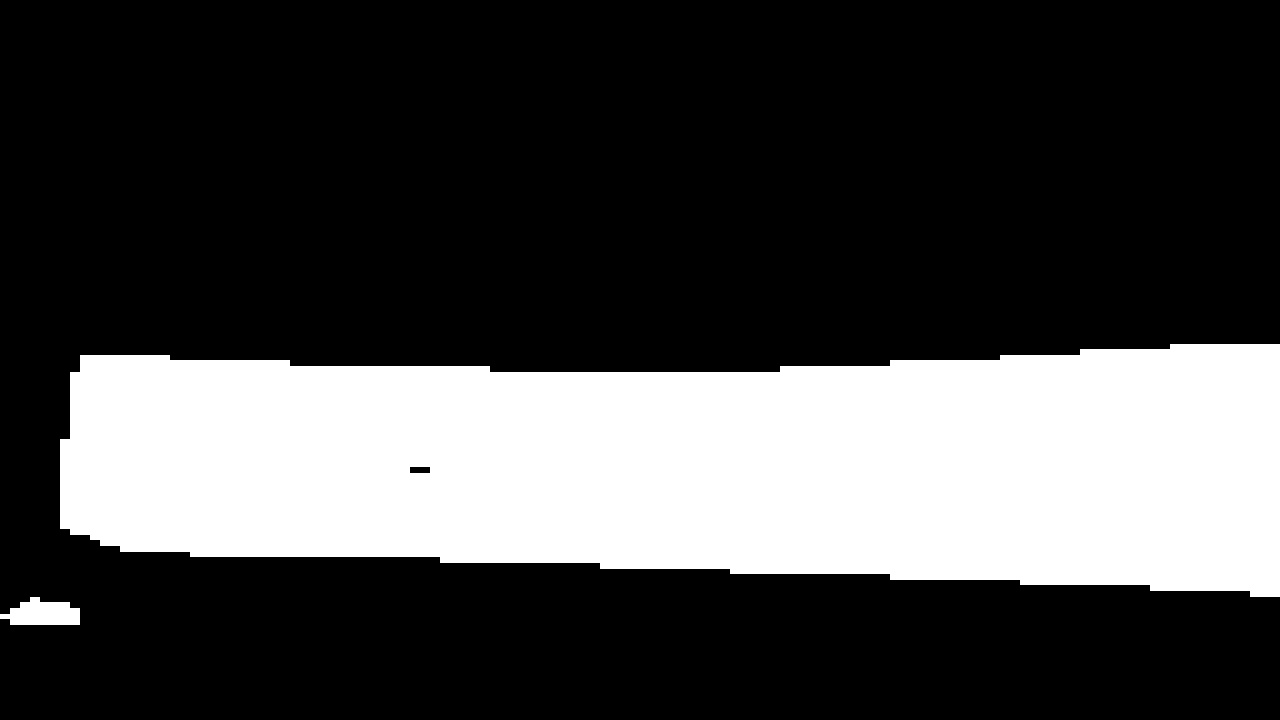Turbine: (47, 317, 1260, 562)
